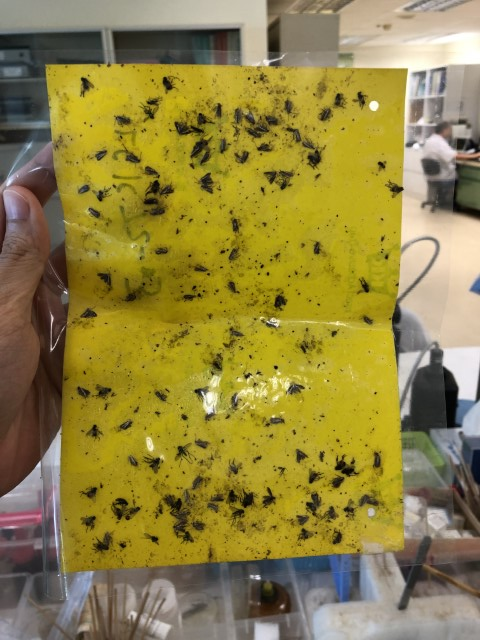DBM: (94, 268, 114, 289), (282, 98, 299, 121), (193, 171, 216, 186), (193, 432, 212, 450), (122, 151, 143, 167), (284, 381, 306, 396), (174, 119, 192, 137), (188, 140, 204, 160), (79, 304, 99, 320), (355, 491, 372, 509), (73, 385, 92, 401), (189, 474, 205, 493), (317, 106, 333, 124), (232, 149, 250, 165), (370, 449, 384, 469), (245, 126, 266, 139), (141, 164, 160, 178), (310, 238, 323, 258), (263, 113, 280, 128), (263, 168, 278, 185), (171, 519, 188, 534), (295, 447, 310, 464), (75, 182, 91, 197), (251, 123, 271, 135), (159, 183, 176, 197), (117, 418, 134, 432), (296, 511, 310, 528), (226, 246, 240, 263), (244, 109, 257, 127), (189, 520, 208, 532), (301, 136, 317, 150), (93, 148, 109, 162), (309, 492, 322, 509), (291, 126, 303, 144), (198, 184, 216, 196), (87, 206, 102, 220), (206, 501, 221, 515), (269, 414, 288, 425), (229, 217, 241, 234), (174, 509, 192, 520), (126, 454, 140, 468), (181, 485, 191, 504), (278, 168, 295, 179), (182, 292, 199, 303), (233, 105, 242, 125), (361, 314, 374, 327), (142, 197, 159, 206), (229, 330, 246, 338)
